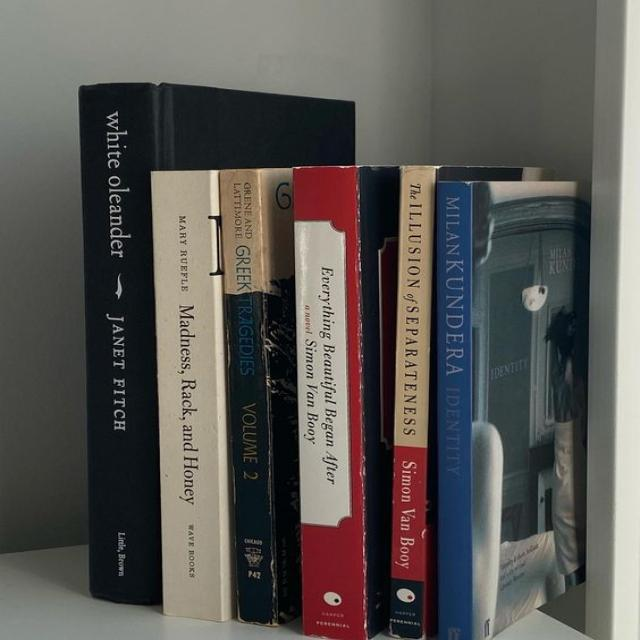book: (79, 84, 160, 605), (152, 172, 230, 620), (220, 169, 293, 625), (301, 170, 360, 640), (390, 166, 433, 636), (436, 183, 474, 639)
